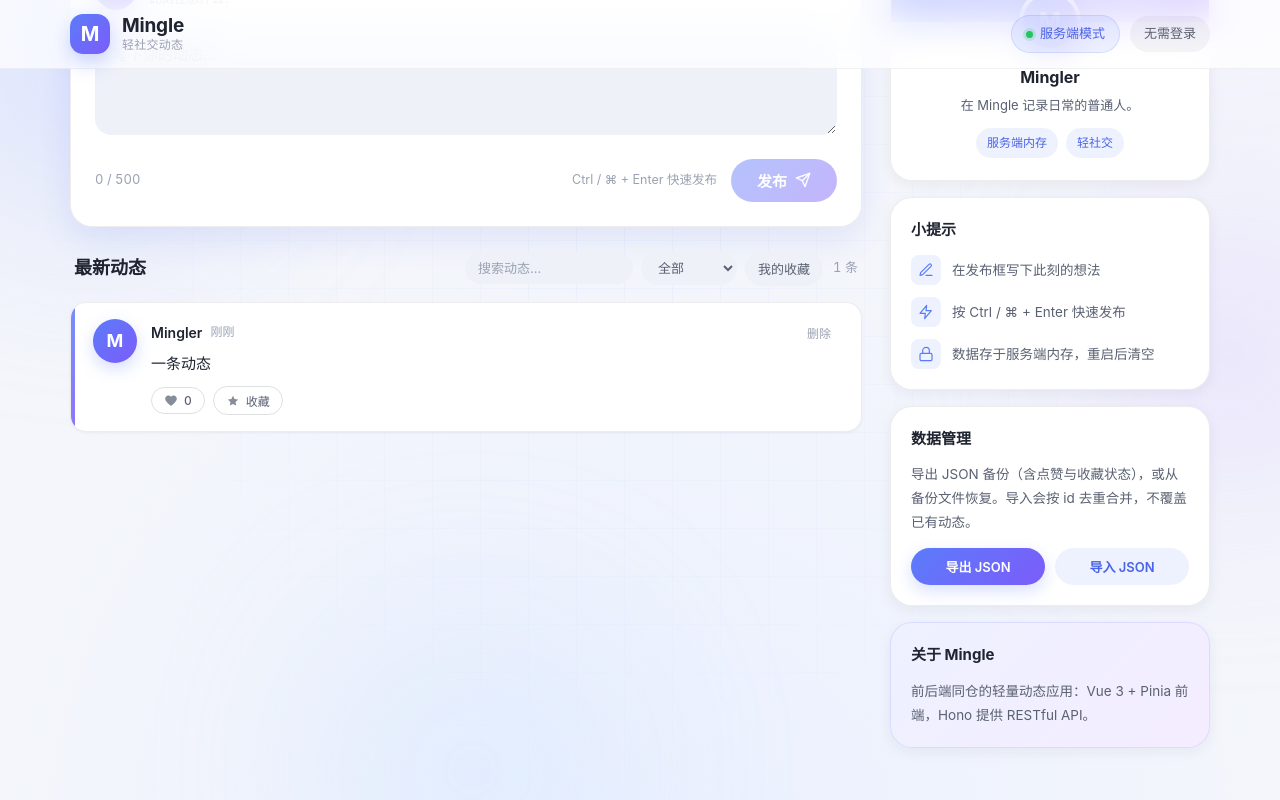
App › 收藏失败时弹出失败提示
(page scrolled)
Click the button "收藏" at (248, 401), box [213,386,283,415]
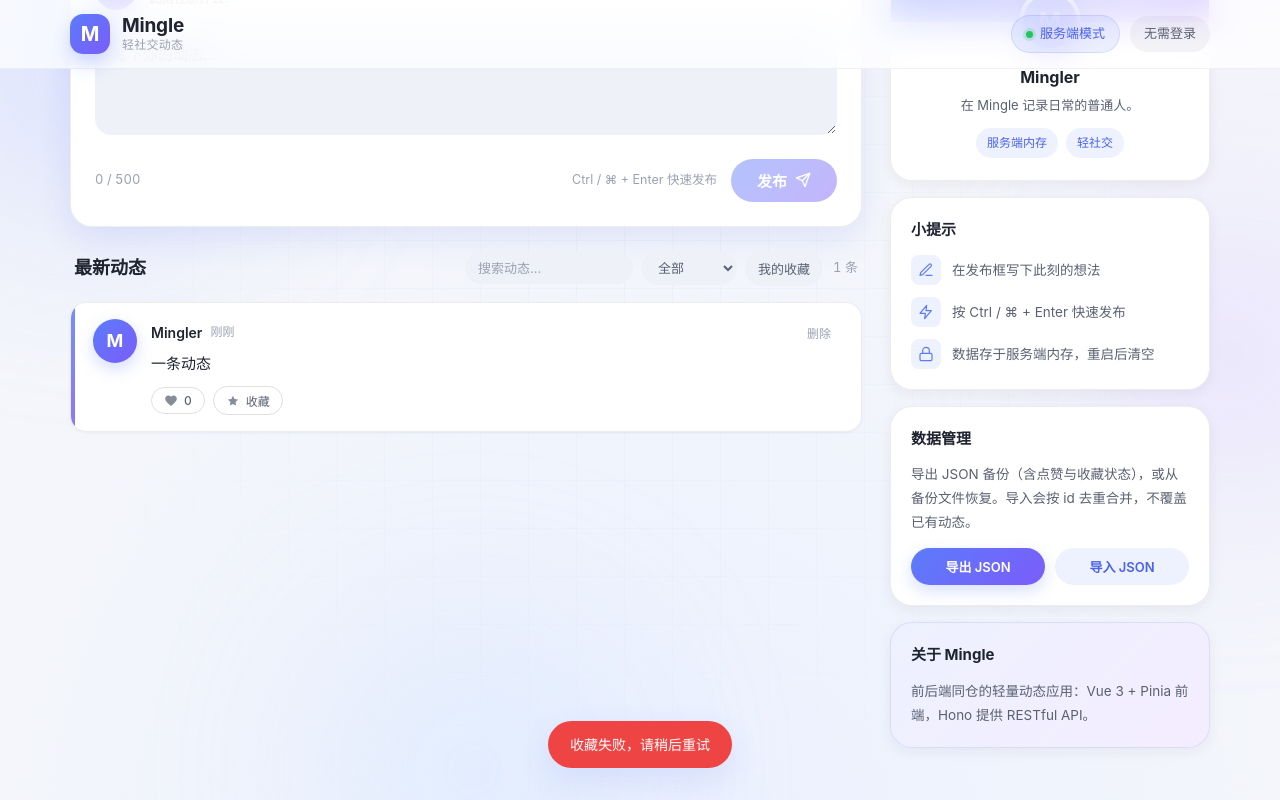
Expected: the message with class "toast" reads "收藏失败，请稍后重试", [570,736,710,753]
